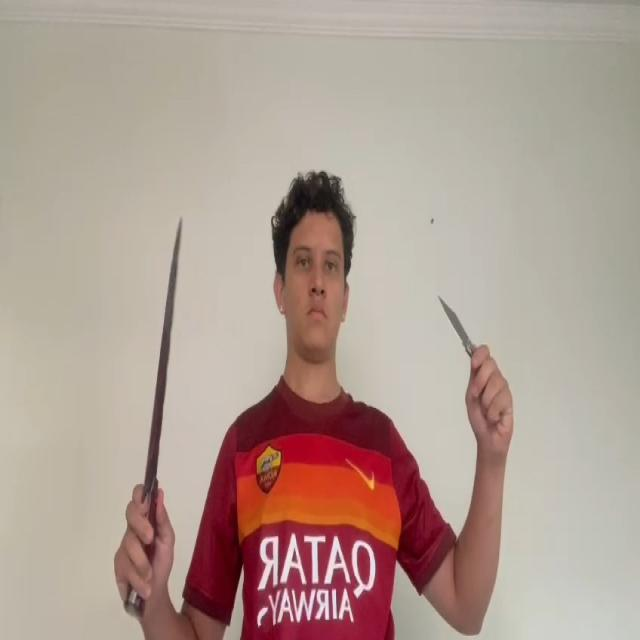knife: (144, 219, 182, 498), (438, 294, 469, 347)
